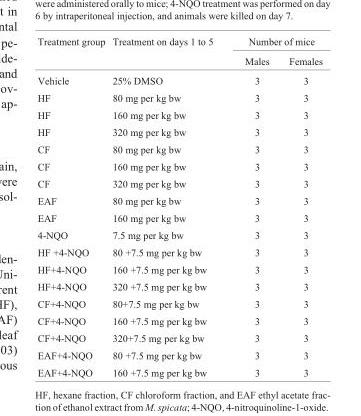table: (36, 37, 322, 377)
table column: (108, 37, 228, 377), (36, 37, 108, 377), (228, 37, 278, 377), (278, 37, 322, 377)
table column header: (36, 37, 322, 71)
table row: (36, 51, 322, 71), (36, 71, 322, 89), (36, 106, 322, 124), (36, 209, 322, 227), (36, 312, 322, 330), (36, 89, 322, 106), (36, 124, 322, 141), (36, 141, 322, 158), (36, 158, 322, 175), (36, 175, 322, 192), (36, 192, 322, 209), (36, 227, 322, 244), (36, 244, 322, 261), (36, 261, 322, 278), (36, 278, 322, 295), (36, 295, 322, 312), (36, 330, 322, 347), (36, 347, 322, 364), (36, 37, 322, 51), (36, 364, 322, 377)
table spanning cell: (108, 37, 228, 71), (36, 37, 108, 71), (228, 37, 322, 51)
